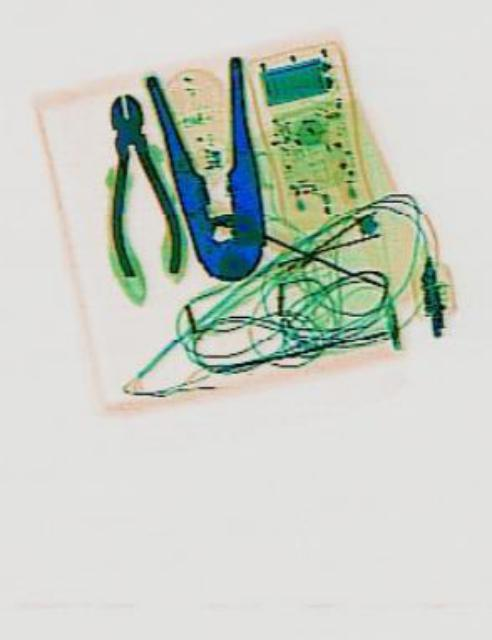Pliers: (141, 46, 283, 298), (88, 85, 183, 282)
